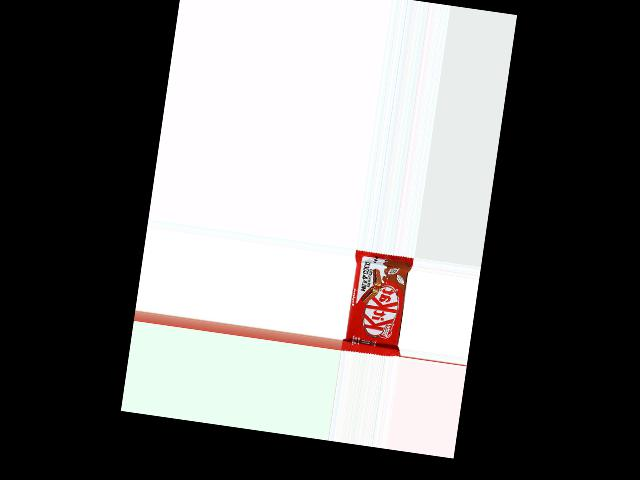chocolate: (340, 248, 414, 358)
